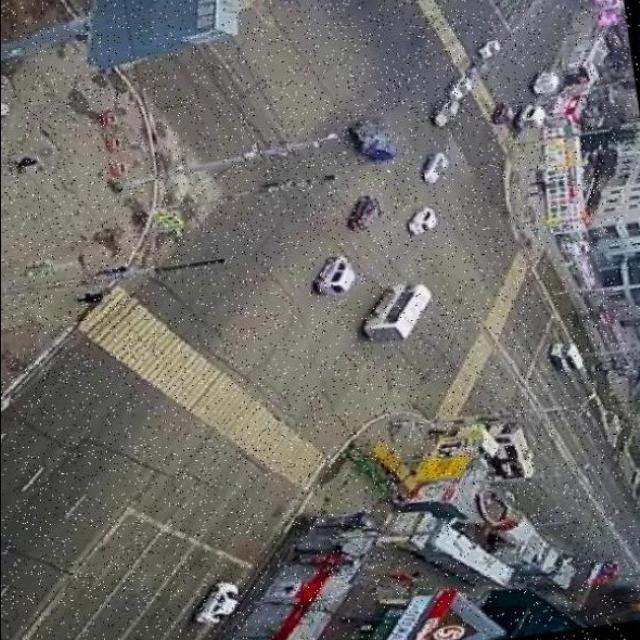accident: (350, 124, 384, 158)
